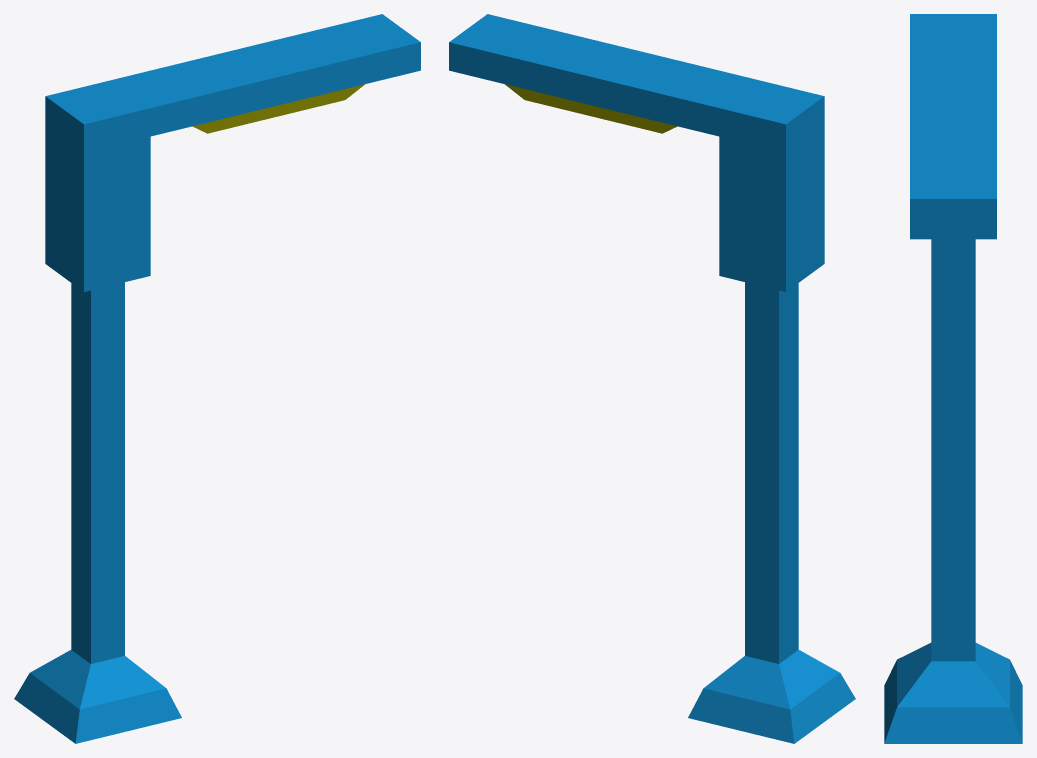
The model's file is lamp.fbx.
The picture shows the model from 3 angles, left to right: view 1: azimuth 30°, elevation 25°; view 2: azimuth 150°, elevation 25°; view 3: azimuth 270°, elevation 25°; orthographic projection. The views are drawn at different scales.
Parts seen in each view (by area): view 1: Cube; view 2: Cube; view 3: Cube.
Boxes of the visible parts, x1,y1,x2,y2 form: Cube: [14, 14, 420, 743]; Cube: [449, 14, 855, 743]; Cube: [884, 14, 1022, 743].
Bounding box in the file's own units: 335 × 544 × 100.
